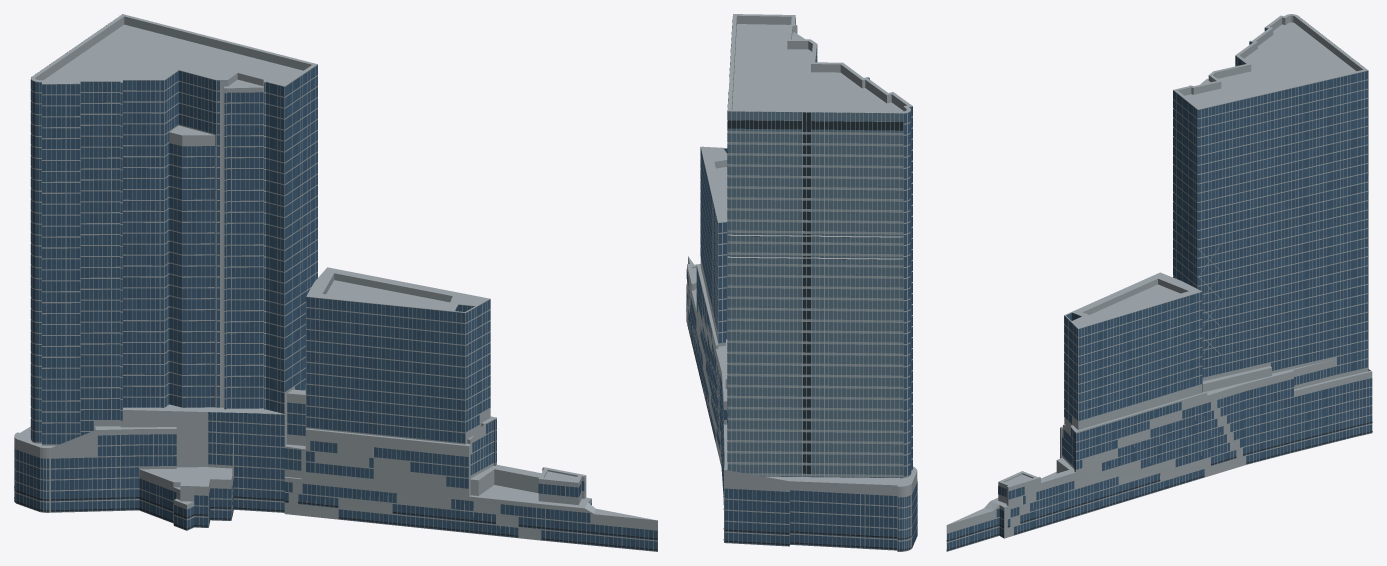
Rendered from sakura-stage.glb.
The picture shows the model from 3 angles, left to right: view 1: azimuth 30°, elevation 25°; view 2: azimuth 150°, elevation 25°; view 3: azimuth 270°, elevation 25°; orthographic projection. The views are drawn at different scales.
Visible parts, largest first — view 1: sakura-stage_wall, sakura-stage_glass1, sakura-stage_glass2, sakura-stage_glass0, sakura-stage_roof, sakura-stage_frame, sakura-stage_spandrel, sakura-stage_sign_housing; view 2: sakura-stage_north143_glass, sakura-stage_north143_spandrel, sakura-stage_north143_fins, sakura-stage_roof, sakura-stage_wall, sakura-stage_glass0, sakura-stage_glass2, sakura-stage_glass1, sakura-stage_north143_dark_glass, sakura-stage_frame, sakura-stage_spandrel, sakura-stage_sign_housing; view 3: sakura-stage_wall, sakura-stage_glass1, sakura-stage_glass0, sakura-stage_glass2, sakura-stage_roof, sakura-stage_frame, sakura-stage_spandrel, sakura-stage_sign_housing.
Boxes of the visible parts, x1=… form: sakura-stage_wall: x1=14, y1=16, x2=657, y2=551; sakura-stage_glass1: x1=15, y1=65, x2=657, y2=551; sakura-stage_glass2: x1=14, y1=68, x2=653, y2=550; sakura-stage_glass0: x1=14, y1=71, x2=653, y2=549; sakura-stage_roof: x1=14, y1=14, x2=655, y2=520; sakura-stage_frame: x1=14, y1=72, x2=653, y2=550; sakura-stage_spandrel: x1=14, y1=75, x2=657, y2=551; sakura-stage_sign_housing: x1=14, y1=486, x2=657, y2=550; sakura-stage_north143_glass: x1=727, y1=111, x2=903, y2=478; sakura-stage_north143_spandrel: x1=727, y1=120, x2=903, y2=477; sakura-stage_north143_fins: x1=727, y1=112, x2=903, y2=477; sakura-stage_roof: x1=686, y1=14, x2=917, y2=486; sakura-stage_wall: x1=686, y1=15, x2=917, y2=551; sakura-stage_glass0: x1=686, y1=32, x2=917, y2=551; sakura-stage_glass2: x1=687, y1=26, x2=917, y2=549; sakura-stage_glass1: x1=687, y1=18, x2=917, y2=551; sakura-stage_north143_dark_glass: x1=727, y1=112, x2=903, y2=473; sakura-stage_frame: x1=687, y1=26, x2=907, y2=551; sakura-stage_spandrel: x1=718, y1=116, x2=917, y2=551; sakura-stage_sign_housing: x1=686, y1=309, x2=917, y2=550; sakura-stage_wall: x1=946, y1=15, x2=1372, y2=551; sakura-stage_glass1: x1=953, y1=28, x2=1372, y2=549; sakura-stage_glass0: x1=947, y1=56, x2=1372, y2=551; sakura-stage_glass2: x1=950, y1=72, x2=1372, y2=545; sakura-stage_roof: x1=948, y1=14, x2=1371, y2=524; sakura-stage_frame: x1=946, y1=57, x2=1366, y2=551; sakura-stage_spandrel: x1=947, y1=64, x2=1371, y2=551; sakura-stage_sign_housing: x1=946, y1=422, x2=1372, y2=550.
Bounding box in the file's own units: 195 × 184 × 196.
